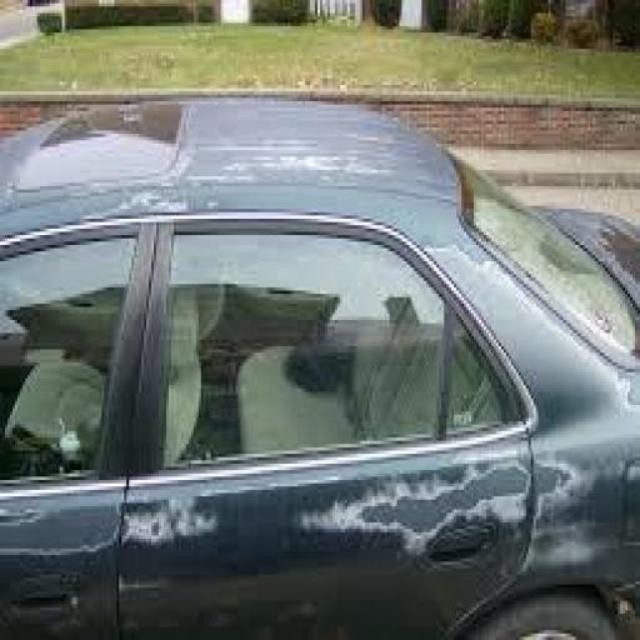rub: (311, 436, 589, 544), (192, 141, 398, 190), (108, 488, 226, 547), (85, 181, 228, 221)
